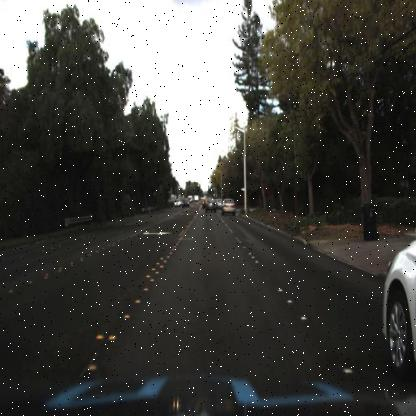car: (378, 233, 414, 374), (220, 196, 236, 218), (203, 194, 217, 214), (172, 194, 182, 210)
